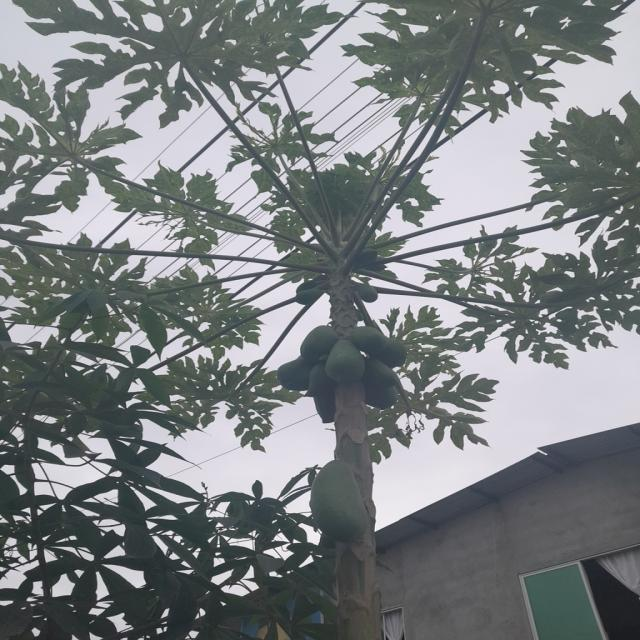Papaya-Tree: (6, 7, 640, 474)
